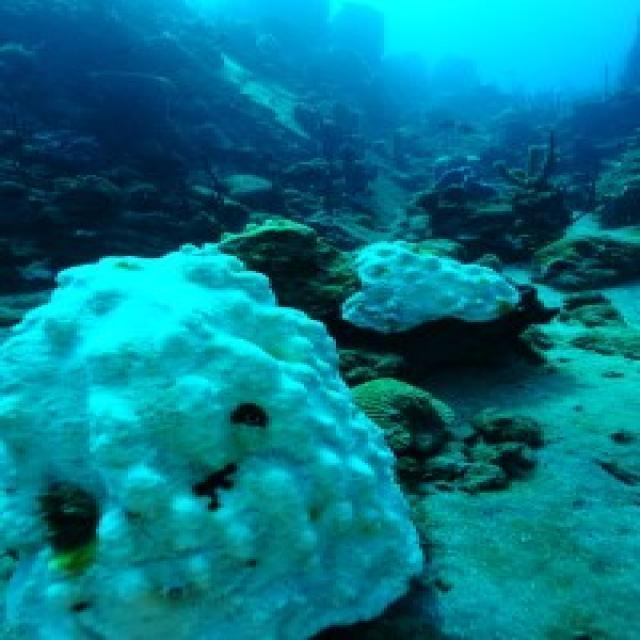Bleached: (1, 246, 430, 640), (347, 241, 523, 332)
Healthy: (354, 378, 448, 469), (541, 238, 640, 292)
